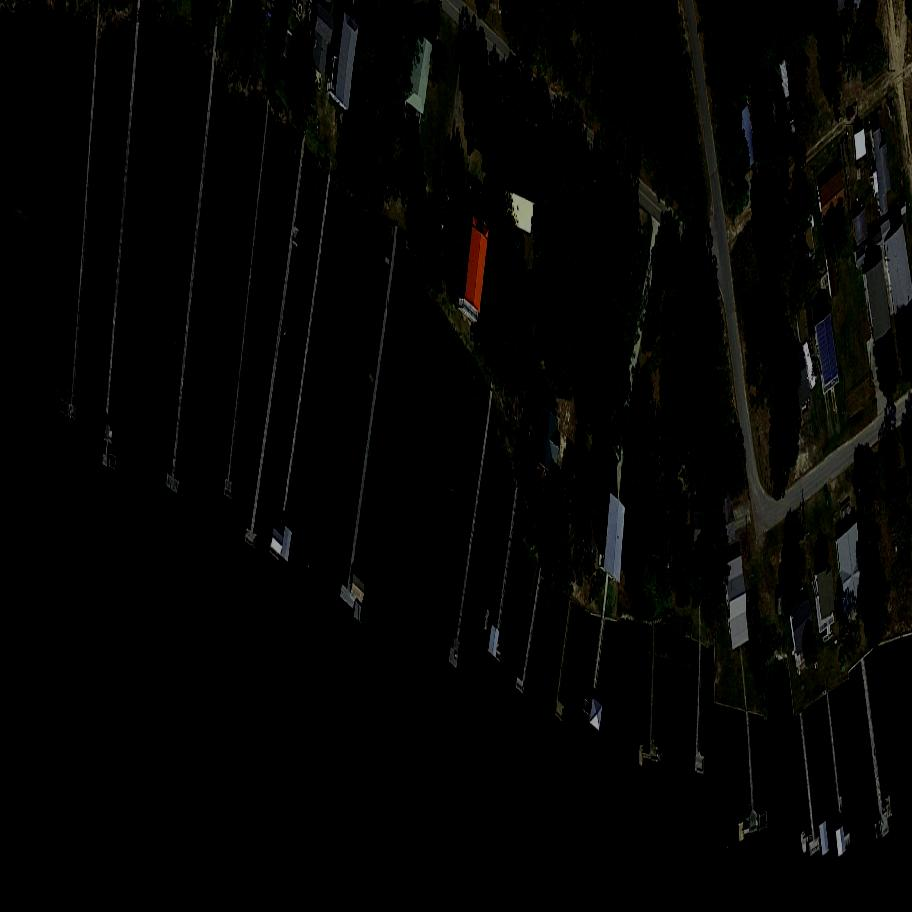small-vehicle: (845, 107, 861, 125), (446, 152, 454, 182), (811, 358, 819, 380), (485, 198, 487, 220)
